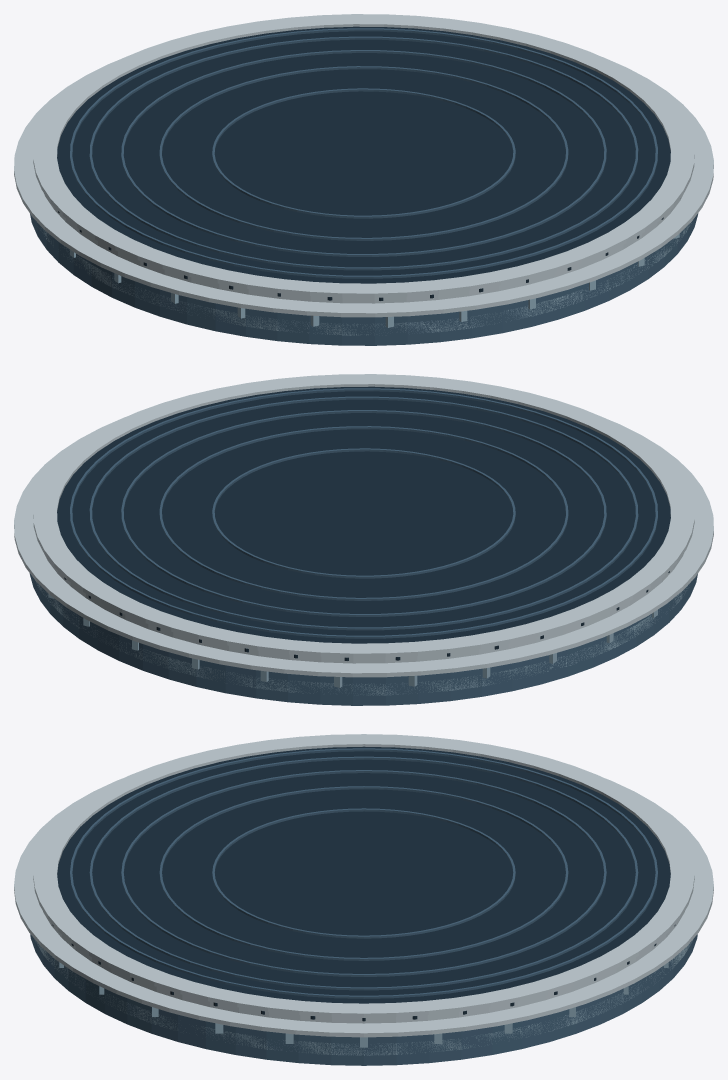
File: 02_L73_RotatingPolishingPlaten.fbx
3 views of the same model, one above another, from view 1: azimuth 30°, elevation 25°; view 2: azimuth 150°, elevation 25°; view 3: azimuth 270°, elevation 25° (orthographic).
Visible parts, largest first — view 1: RotatingPolishingPlaten_Part_0002, RotatingPolishingPlaten_Part_0003, RotatingPolishingPlaten_Part_0000, RotatingPolishingPlaten_Part_0001, RotatingPolishingPlaten_Part_0006, RotatingPolishingPlaten_Part_0007, RotatingPolishingPlaten_Part_0008, RotatingPolishingPlaten_Part_0004, RotatingPolishingPlaten_Part_0009, RotatingPolishingPlaten_Part_0005, RotatingPolishingPlaten_Part_0010; view 2: RotatingPolishingPlaten_Part_0002, RotatingPolishingPlaten_Part_0003, RotatingPolishingPlaten_Part_0000, RotatingPolishingPlaten_Part_0001, RotatingPolishingPlaten_Part_0006, RotatingPolishingPlaten_Part_0007, RotatingPolishingPlaten_Part_0008, RotatingPolishingPlaten_Part_0004, RotatingPolishingPlaten_Part_0009, RotatingPolishingPlaten_Part_0005, RotatingPolishingPlaten_Part_0010; view 3: RotatingPolishingPlaten_Part_0002, RotatingPolishingPlaten_Part_0003, RotatingPolishingPlaten_Part_0000, RotatingPolishingPlaten_Part_0001, RotatingPolishingPlaten_Part_0006, RotatingPolishingPlaten_Part_0007, RotatingPolishingPlaten_Part_0008, RotatingPolishingPlaten_Part_0004, RotatingPolishingPlaten_Part_0009, RotatingPolishingPlaten_Part_0005, RotatingPolishingPlaten_Part_0010.
Part boxes in pixels (x1,y1,x2,y2): RotatingPolishingPlaten_Part_0002: [57, 26, 670, 283]; RotatingPolishingPlaten_Part_0003: [33, 14, 694, 297]; RotatingPolishingPlaten_Part_0000: [30, 213, 698, 345]; RotatingPolishingPlaten_Part_0001: [14, 57, 713, 317]; RotatingPolishingPlaten_Part_0006: [70, 28, 657, 278]; RotatingPolishingPlaten_Part_0007: [89, 36, 638, 270]; RotatingPolishingPlaten_Part_0008: [121, 50, 606, 256]; RotatingPolishingPlaten_Part_0004: [44, 193, 682, 303]; RotatingPolishingPlaten_Part_0009: [159, 66, 568, 240]; RotatingPolishingPlaten_Part_0005: [40, 223, 691, 335]; RotatingPolishingPlaten_Part_0010: [212, 88, 515, 218]; RotatingPolishingPlaten_Part_0002: [57, 386, 670, 643]; RotatingPolishingPlaten_Part_0003: [33, 374, 694, 657]; RotatingPolishingPlaten_Part_0000: [29, 573, 697, 705]; RotatingPolishingPlaten_Part_0001: [14, 417, 713, 677]; RotatingPolishingPlaten_Part_0006: [70, 388, 657, 638]; RotatingPolishingPlaten_Part_0007: [89, 396, 638, 630]; RotatingPolishingPlaten_Part_0008: [121, 410, 606, 616]; RotatingPolishingPlaten_Part_0004: [45, 553, 683, 663]; RotatingPolishingPlaten_Part_0009: [159, 426, 568, 600]; RotatingPolishingPlaten_Part_0005: [36, 580, 692, 695]; RotatingPolishingPlaten_Part_0010: [212, 448, 515, 578]; RotatingPolishingPlaten_Part_0002: [57, 746, 670, 1003]; RotatingPolishingPlaten_Part_0003: [33, 734, 694, 1017]; RotatingPolishingPlaten_Part_0000: [30, 934, 697, 1065]; RotatingPolishingPlaten_Part_0001: [14, 778, 713, 1037]; RotatingPolishingPlaten_Part_0006: [70, 748, 657, 998]; RotatingPolishingPlaten_Part_0007: [89, 756, 638, 990]; RotatingPolishingPlaten_Part_0008: [121, 770, 606, 976]; RotatingPolishingPlaten_Part_0004: [43, 911, 684, 1023]; RotatingPolishingPlaten_Part_0009: [159, 786, 568, 960]; RotatingPolishingPlaten_Part_0005: [34, 939, 692, 1055]; RotatingPolishingPlaten_Part_0010: [212, 808, 515, 938].
Bounding box in the file's own units: 531 × 75.85 × 531.
